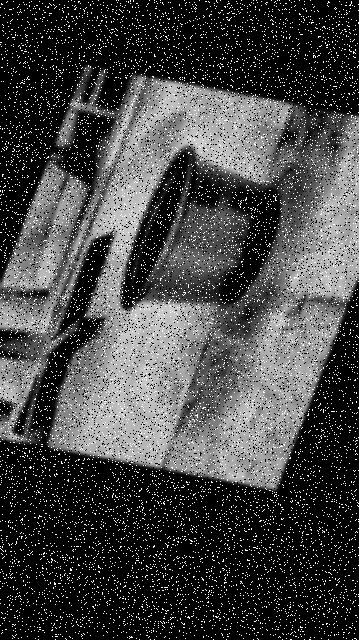pot: (117, 146, 277, 310)
